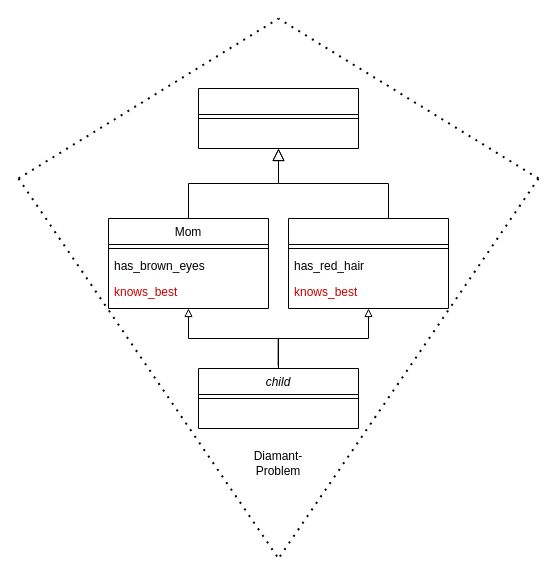
Image size: 557x577. Some labels were removed from this diagram. Each missing label, with the box of its shape:
Dad: (288, 218, 448, 308)
object: (198, 88, 358, 148)
